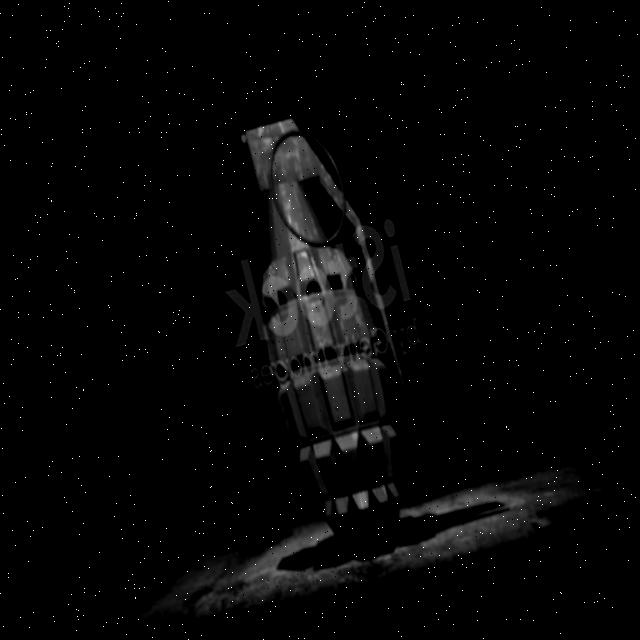grenade: (200, 92, 451, 563)
